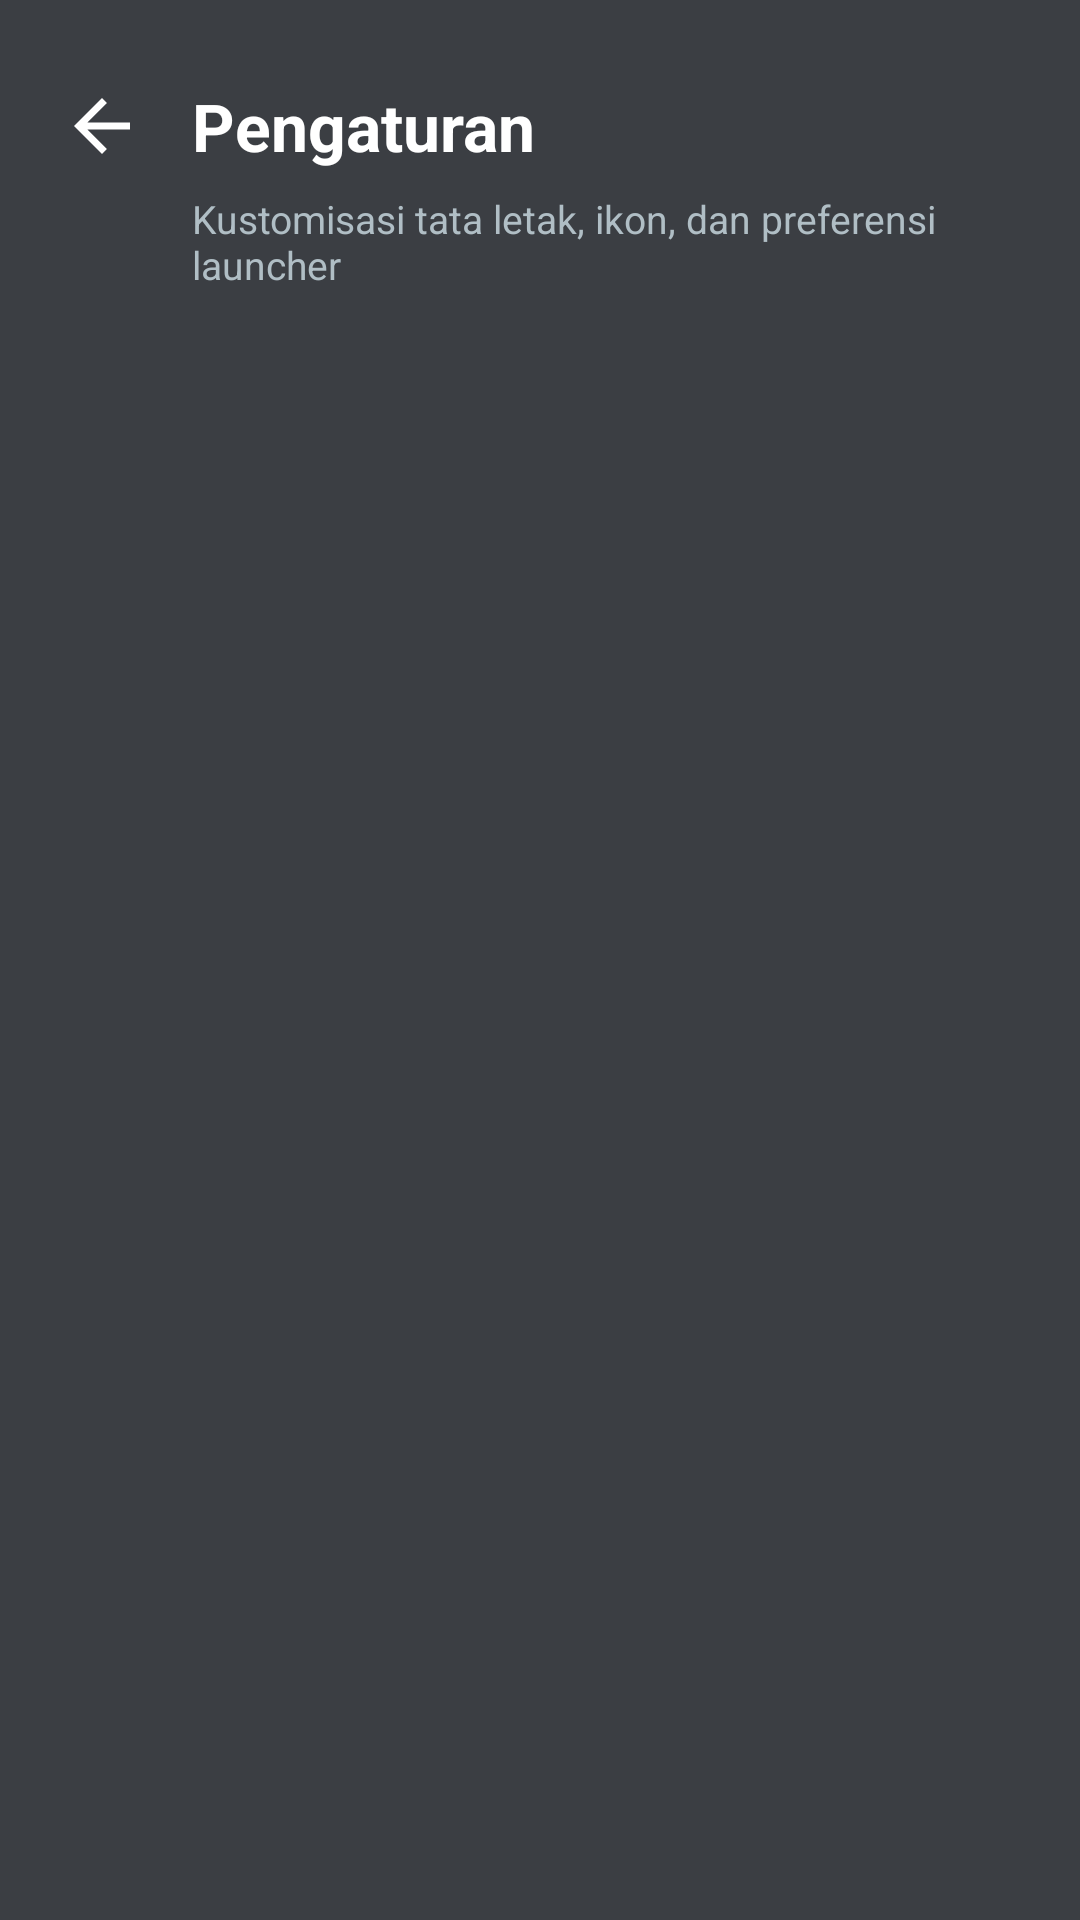

Where to tap for icons on this 1080w x 1920h app screen, as (x=x, y=y):
Kembali: (x=102, y=126)
